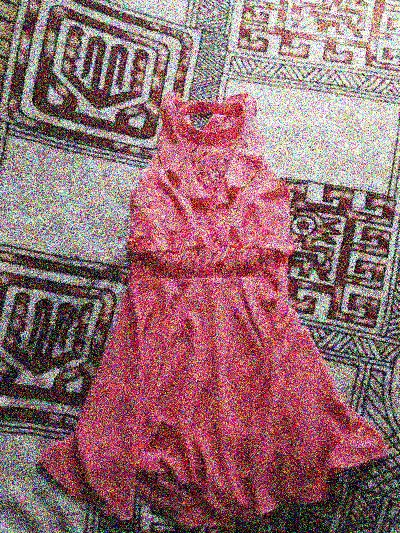Dress: (27, 71, 389, 523)
